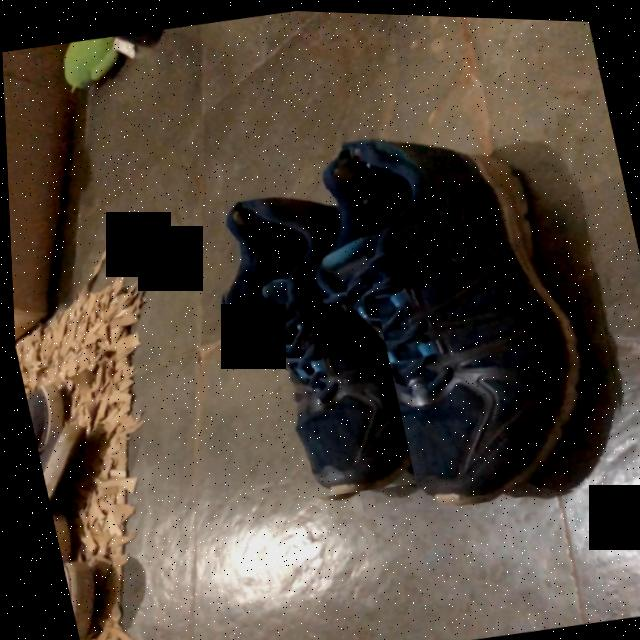shoe: (308, 137, 611, 501), (221, 197, 407, 489)
